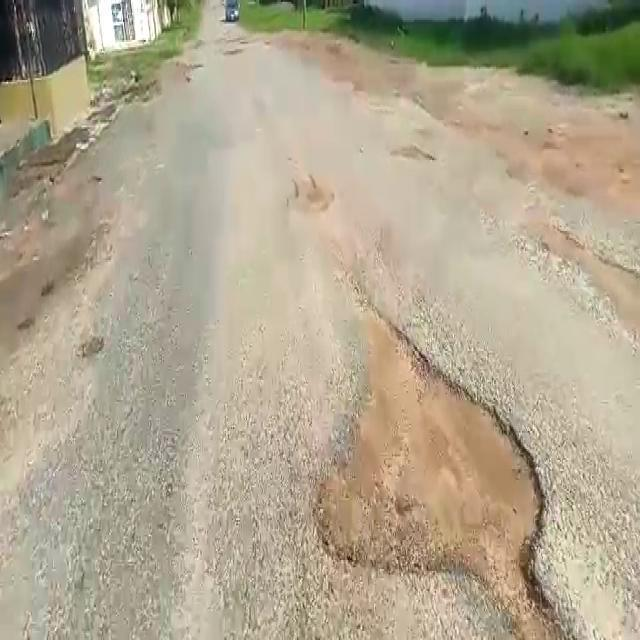pothole: (313, 300, 549, 594), (285, 174, 335, 213), (390, 143, 436, 166)
